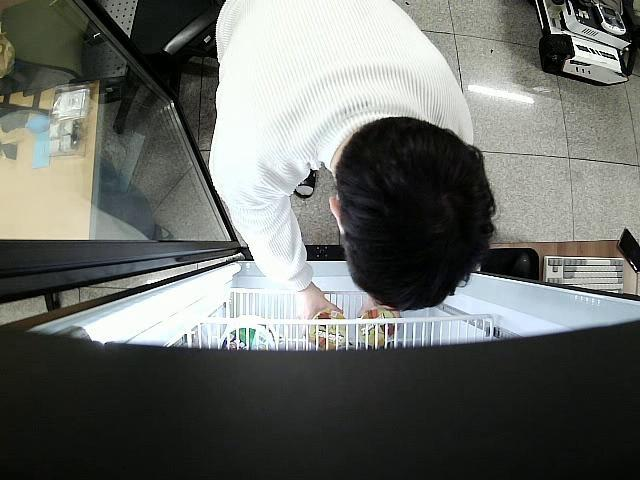04_chapagetti_S: (308, 312, 348, 350), (358, 311, 396, 350)
